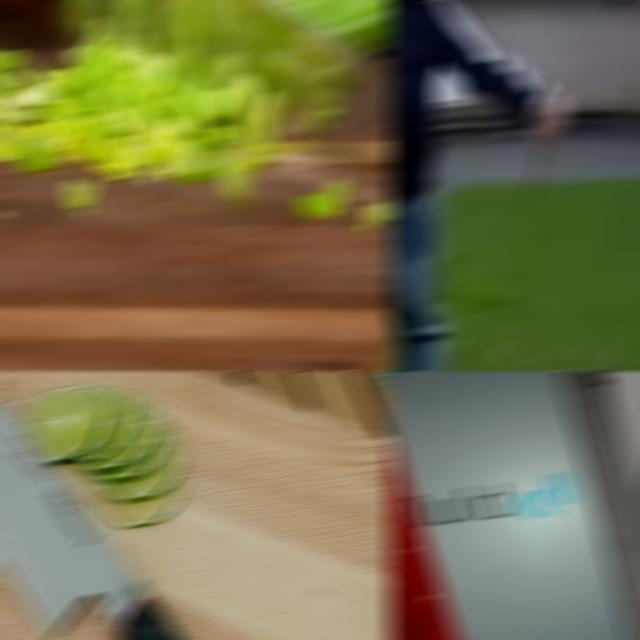Knife_Handle: (0, 0, 394, 135), (525, 83, 571, 195)
